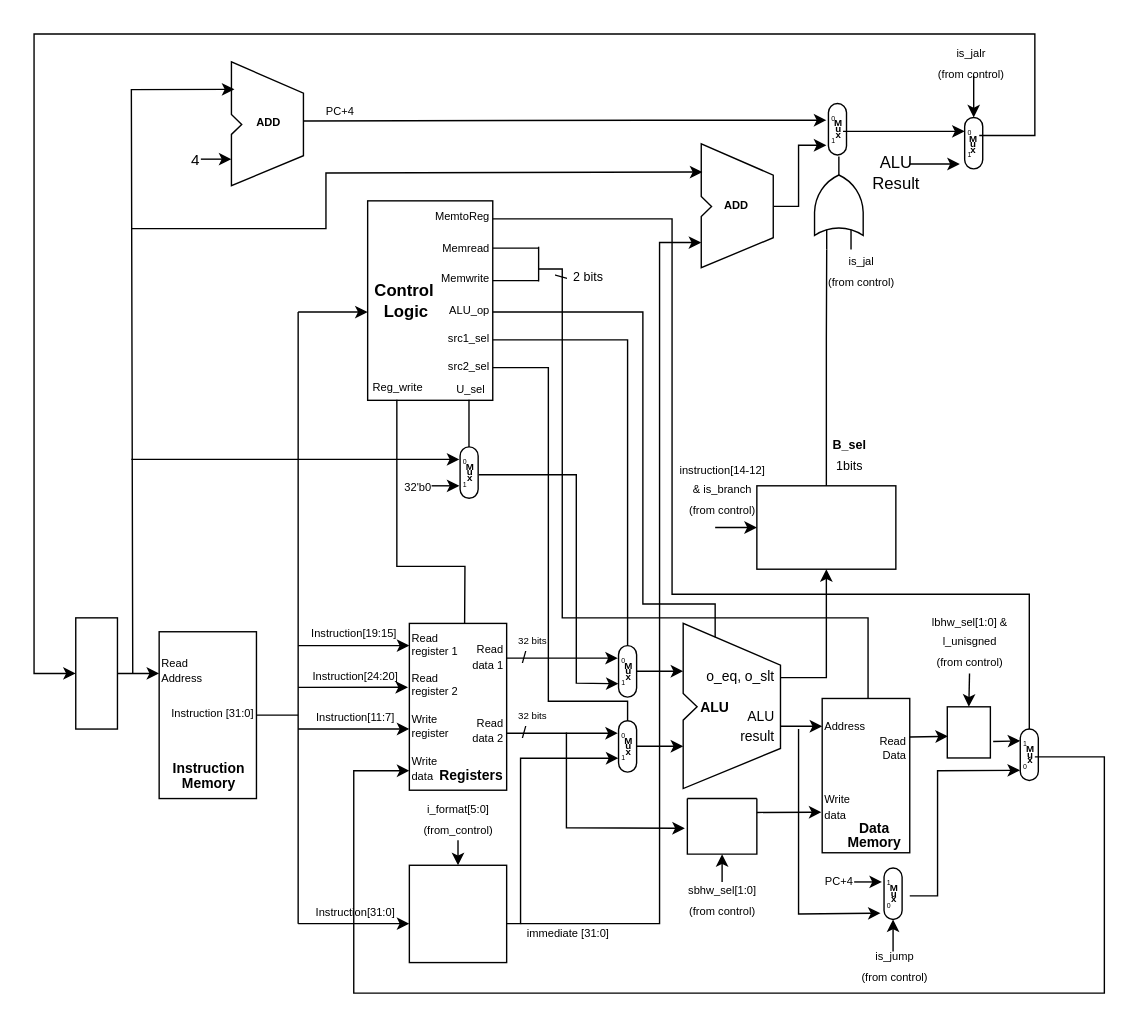
Some shapes in this 1140 by 1029 pixel diagram are drawn without their labels. The centre of each missing label's shape, as x and y in pixels:
"Branch Decoder" belongs at point (825, 526).
"imm.v Immediate Decoder" belongs at point (457, 913).
"load selector" belongs at point (968, 731).
"PC" belongs at point (95, 672).
"store width selector" belongs at point (721, 825).
